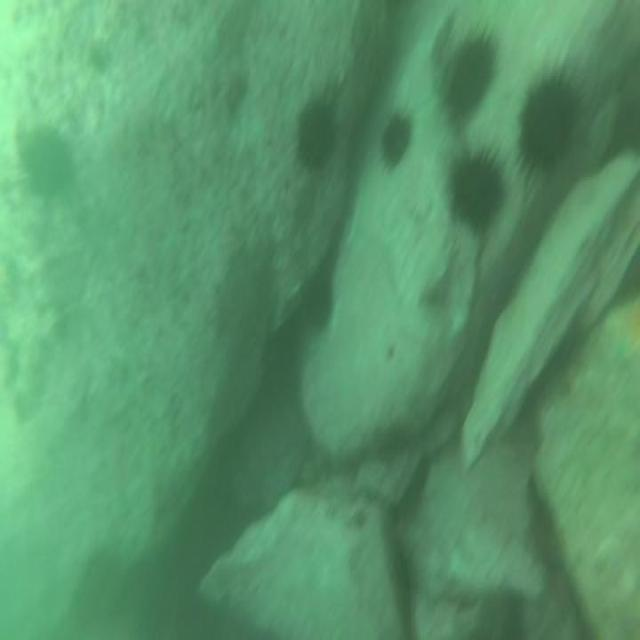echinus: (516, 68, 582, 177), (447, 148, 505, 235), (439, 31, 493, 124), (17, 117, 73, 202), (294, 93, 339, 179), (299, 262, 336, 335), (382, 109, 413, 164)
starfish: (606, 288, 640, 379)
